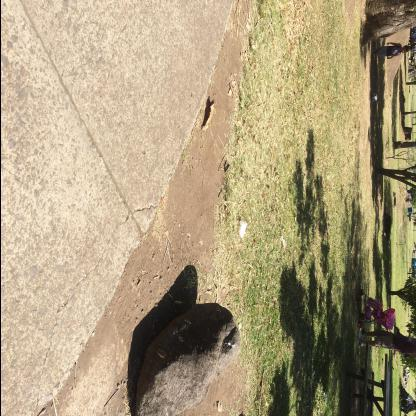karton: (239, 222, 247, 239)
